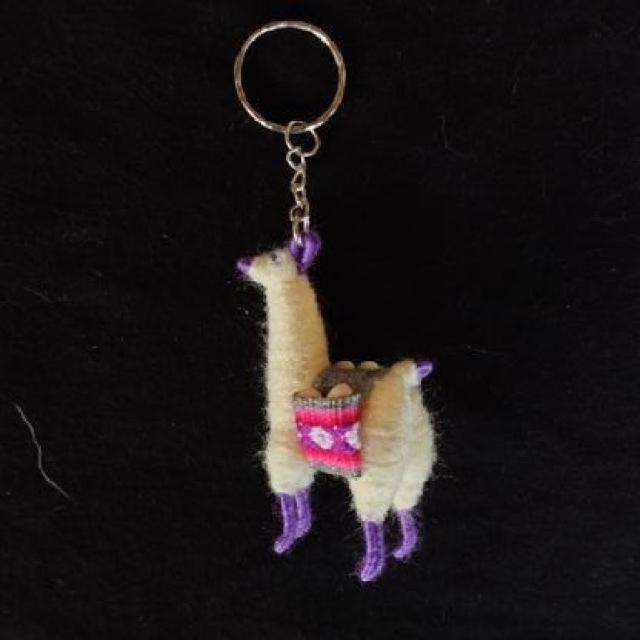Llavero: (235, 243, 438, 583)
